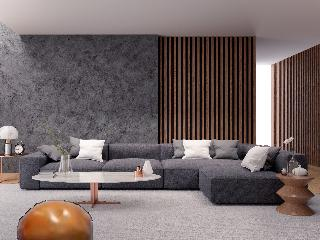potato: (17, 201, 94, 240)
